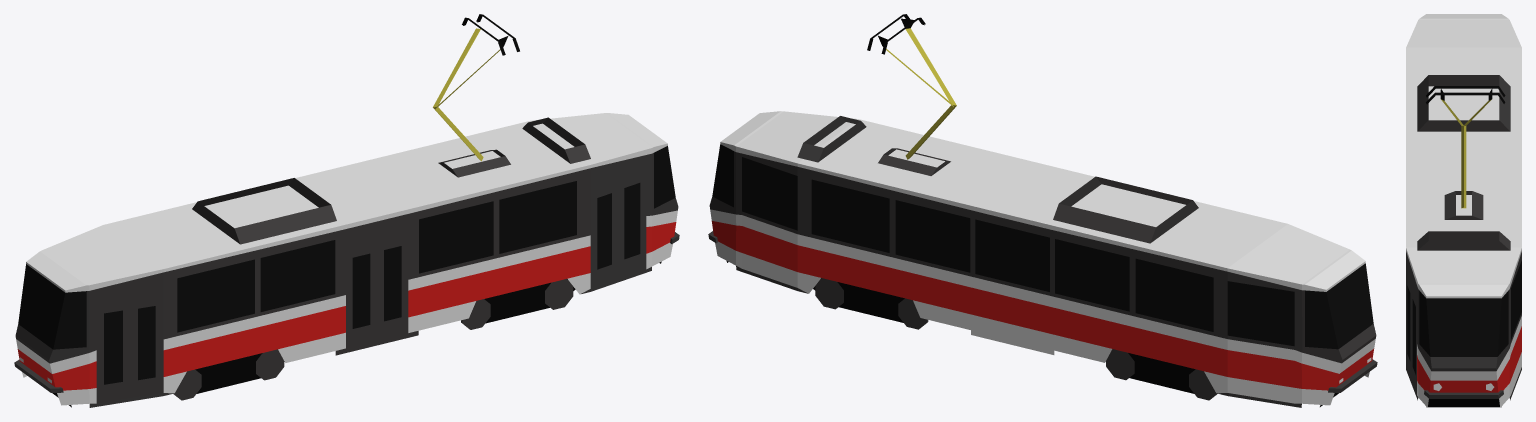
Rendered from tramvaj.fbx.
3 renders of one model, left to right at view 1: azimuth 30°, elevation 25°; view 2: azimuth 150°, elevation 25°; view 3: azimuth 270°, elevation 25°, orthographic. The views are drawn at different scales.
Visible parts, largest first — view 1: tramvaj, tramvaj pantograf; view 2: tramvaj, tramvaj pantograf; view 3: tramvaj, tramvaj pantograf.
Boxes of the visible parts, x1,y1,x2,y2 form: tramvaj: (14,113,679,407); tramvaj pantograf: (433,14,519,161); tramvaj: (708,111,1377,407); tramvaj pantograf: (867,14,956,159); tramvaj: (1406,14,1521,407); tramvaj pantograf: (1426,86,1505,208).
Size of the model in its own units: 1467 by 602 by 244.
